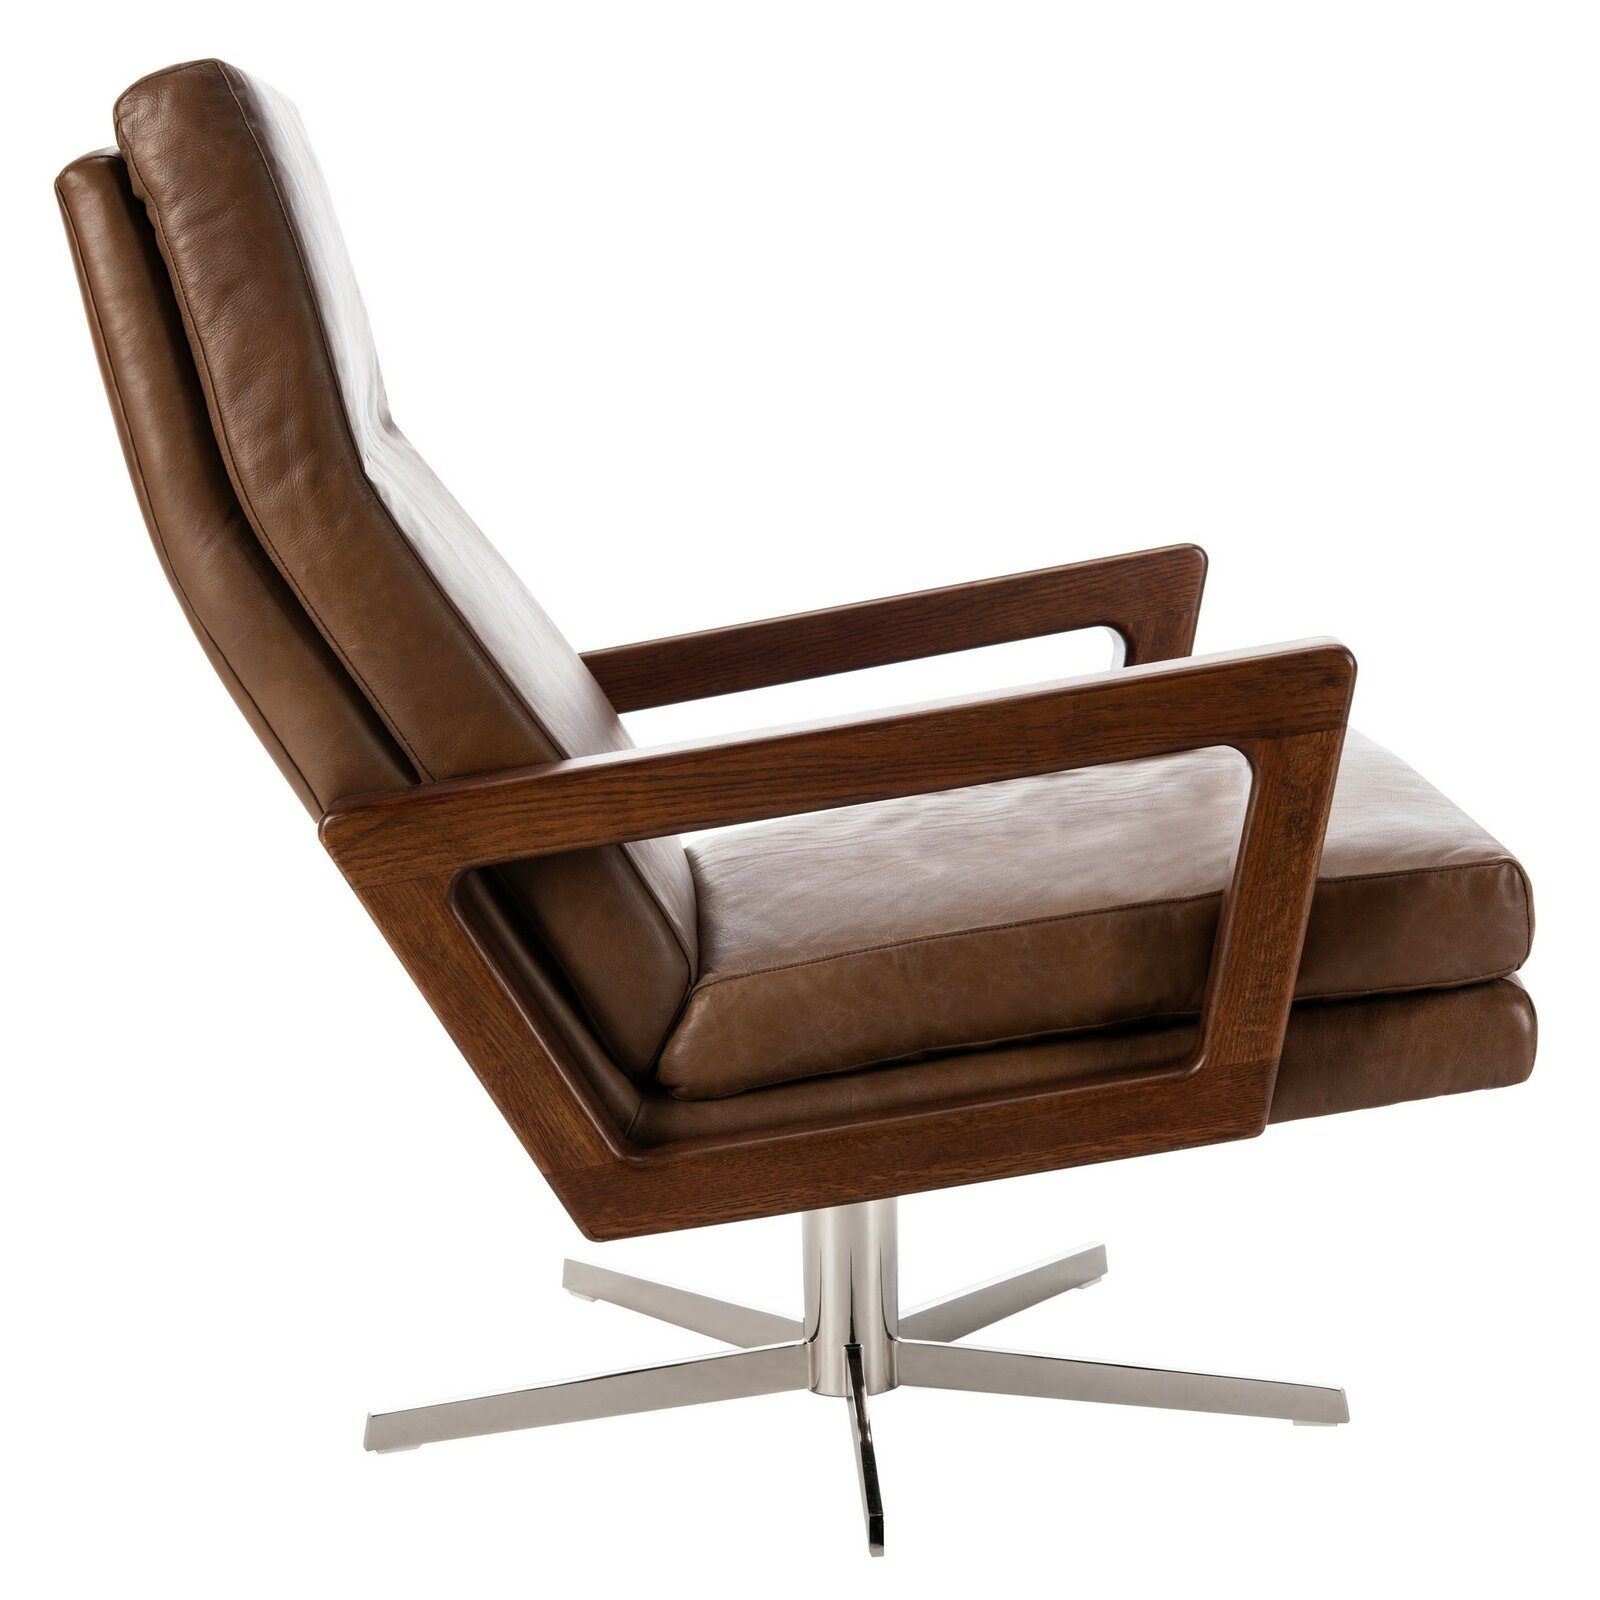obstacle: (57, 62, 1536, 1544)
